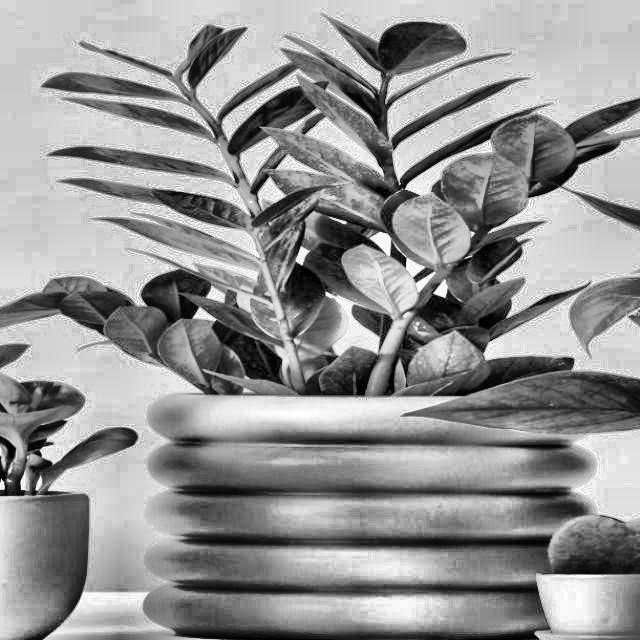plants: (59, 46, 622, 397)
